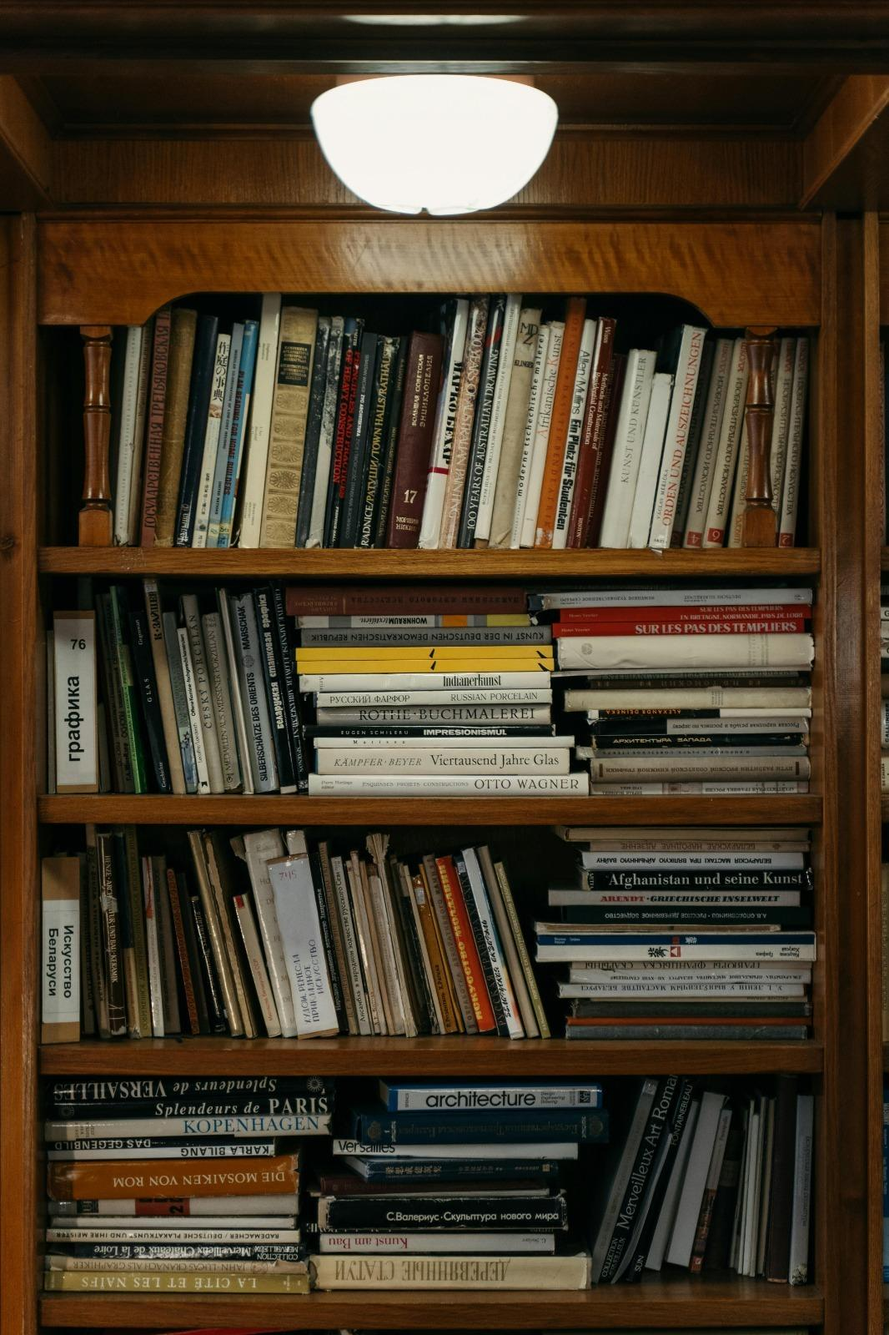book: (589, 1075, 659, 1282), (452, 844, 521, 1040), (382, 330, 443, 551), (658, 1088, 730, 1275), (236, 831, 300, 1039), (646, 329, 706, 549), (197, 834, 258, 1039), (681, 334, 736, 549), (423, 299, 470, 548), (491, 310, 540, 548), (171, 314, 220, 551), (237, 293, 283, 545), (365, 832, 419, 1039), (521, 316, 567, 549), (312, 1251, 585, 1290), (568, 323, 615, 549), (465, 297, 507, 549), (599, 350, 652, 548), (420, 853, 477, 1036), (249, 583, 299, 789), (341, 1104, 594, 1143), (140, 587, 187, 792), (93, 587, 141, 787), (47, 1074, 320, 1109), (179, 595, 226, 793), (208, 325, 247, 557), (395, 859, 445, 1039), (295, 315, 333, 549), (340, 328, 380, 550), (313, 1194, 565, 1229), (51, 610, 100, 789), (726, 339, 767, 548), (342, 851, 387, 1037), (39, 854, 81, 1044), (140, 310, 173, 545), (306, 843, 346, 1035), (285, 584, 531, 615), (777, 338, 810, 554), (113, 323, 145, 545), (48, 1117, 321, 1143), (164, 867, 203, 1040), (765, 1078, 798, 1282), (96, 831, 128, 1036), (121, 835, 153, 1035), (311, 748, 572, 772), (558, 900, 808, 925), (565, 869, 807, 893), (47, 1134, 298, 1156), (46, 1240, 299, 1261), (47, 1255, 300, 1275), (789, 1093, 814, 1286), (300, 628, 547, 647), (85, 837, 108, 1038), (50, 1227, 301, 1245), (571, 852, 808, 870), (875, 337, 886, 543), (879, 1089, 888, 1279)
